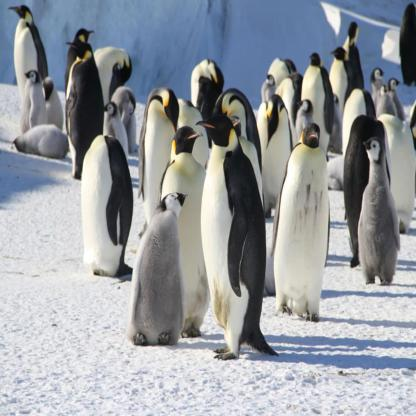Penguin: (190, 103, 298, 370), (152, 117, 226, 346), (113, 180, 198, 353), (275, 117, 337, 333), (75, 118, 143, 284), (347, 133, 411, 285), (5, 1, 64, 157), (136, 71, 188, 234), (64, 37, 114, 180), (30, 74, 70, 146), (17, 57, 50, 142), (11, 123, 70, 168)
